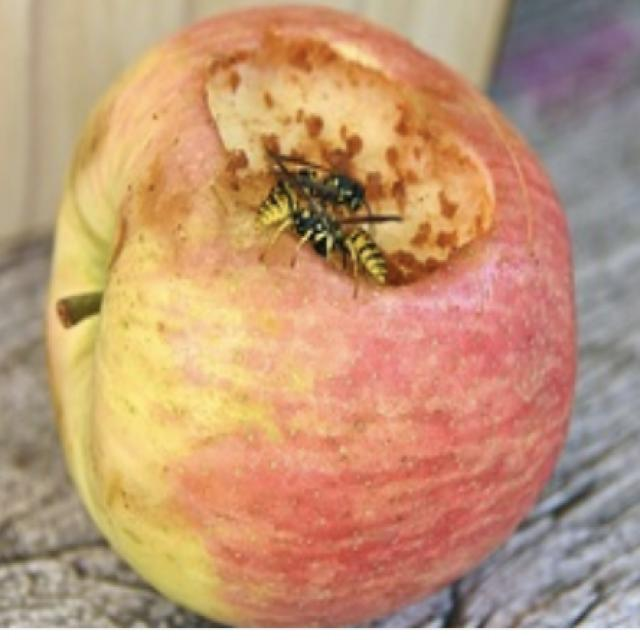rotten_apple: (46, 8, 578, 626)
